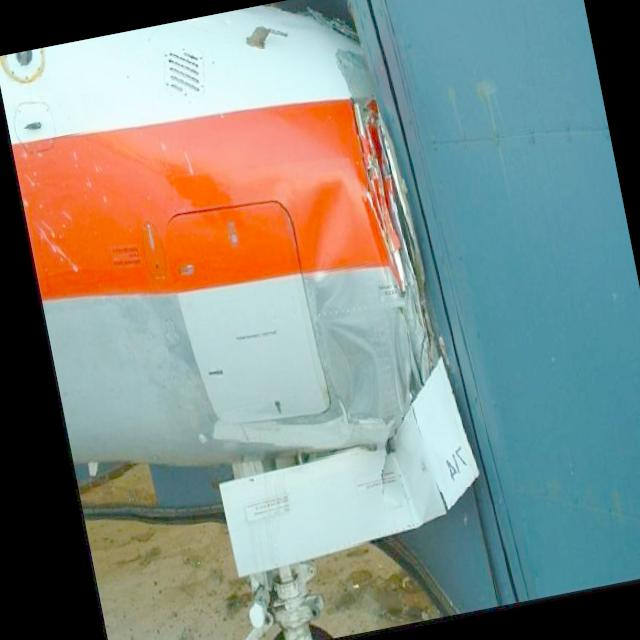dent: (279, 158, 404, 435)
